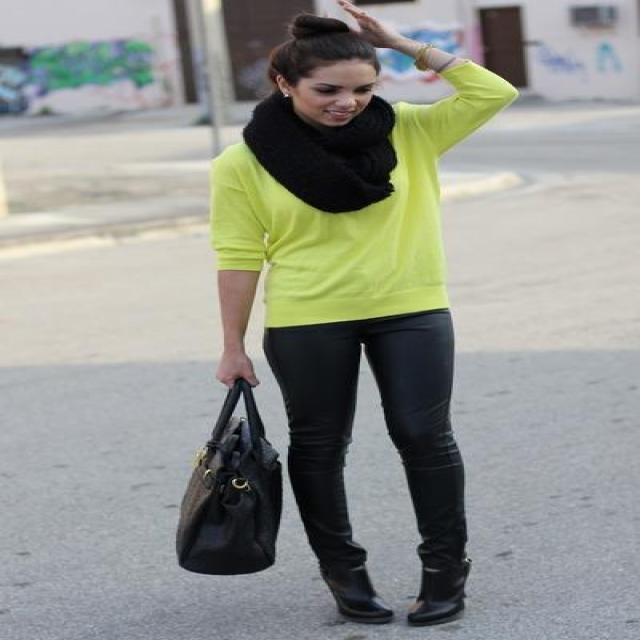bag: (176, 397, 304, 574)
pants: (264, 308, 469, 585)
shirt: (208, 48, 517, 326)
shoe: (328, 572, 467, 626)
